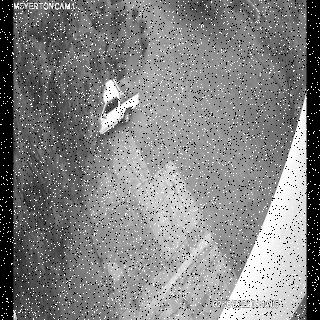car: (95, 75, 138, 145)
